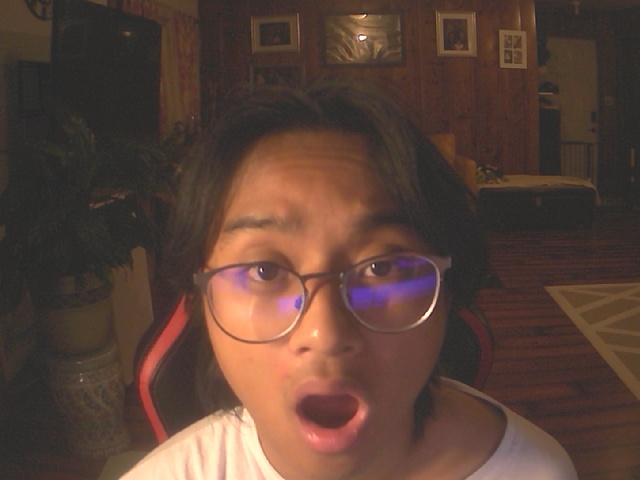fear: (156, 73, 492, 480)
